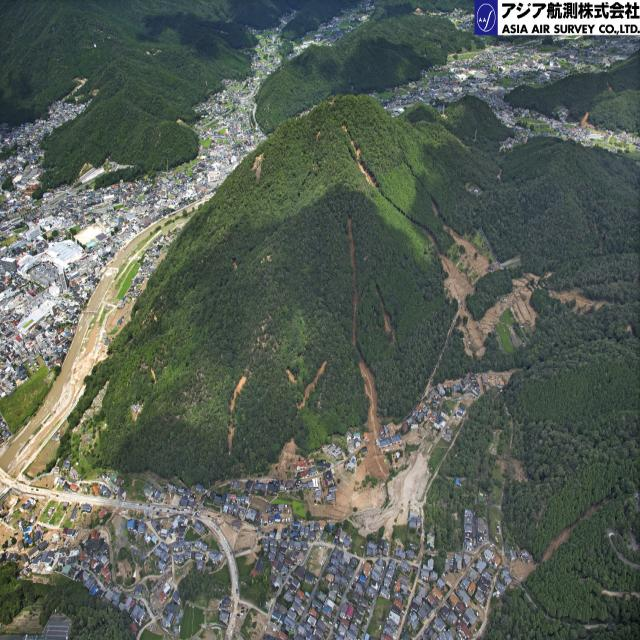Debris-flow: (428, 253, 536, 389), (348, 215, 380, 437), (298, 360, 330, 411), (450, 230, 489, 271), (350, 139, 379, 191), (377, 287, 398, 345), (550, 290, 601, 311), (230, 375, 249, 415), (251, 156, 262, 181)
